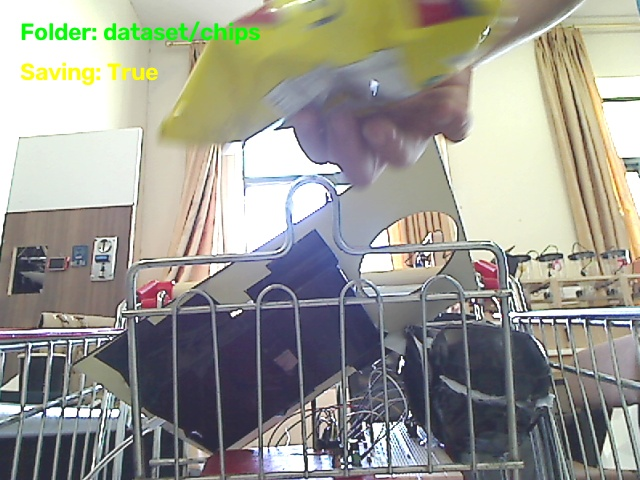chips: (161, 0, 512, 142)
